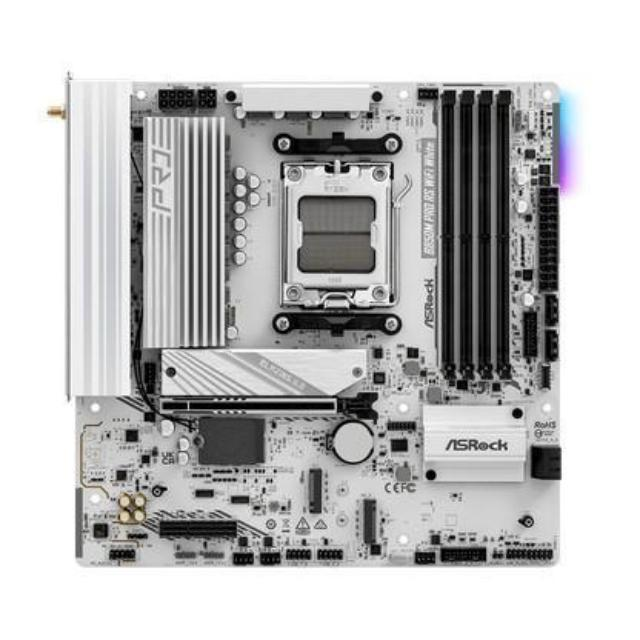Mainboard: (41, 69, 566, 586)
